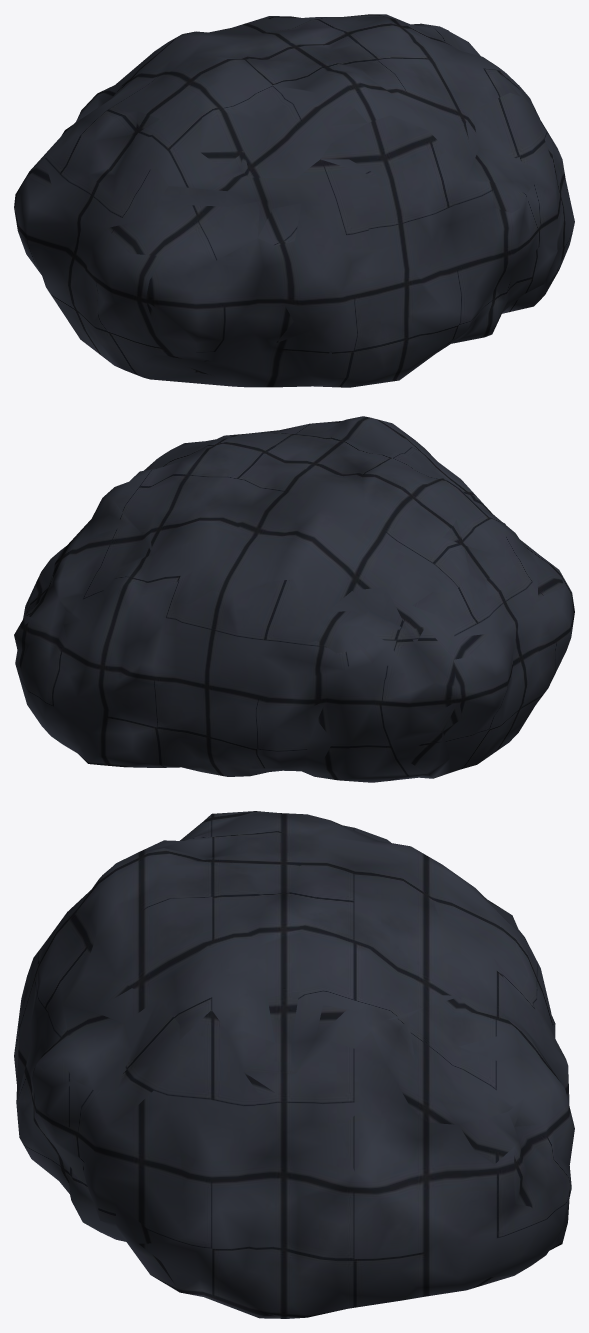
The model's file is sf_rock.glb.
3 views of the same model, one above another, from view 1: azimuth 30°, elevation 25°; view 2: azimuth 150°, elevation 25°; view 3: azimuth 270°, elevation 25° (orthographic). The views are drawn at different scales.
Visible parts, largest first — view 1: Base; view 2: Base; view 3: Base.
Part boxes in pixels (bbox=[...]): Base: bbox=[14, 14, 574, 387]; Base: bbox=[14, 416, 574, 782]; Base: bbox=[14, 811, 574, 1318].
Size of the model in its own units: 0.8513 by 0.4585 by 0.7041.
Materials: 2 (2 with a texture image).
